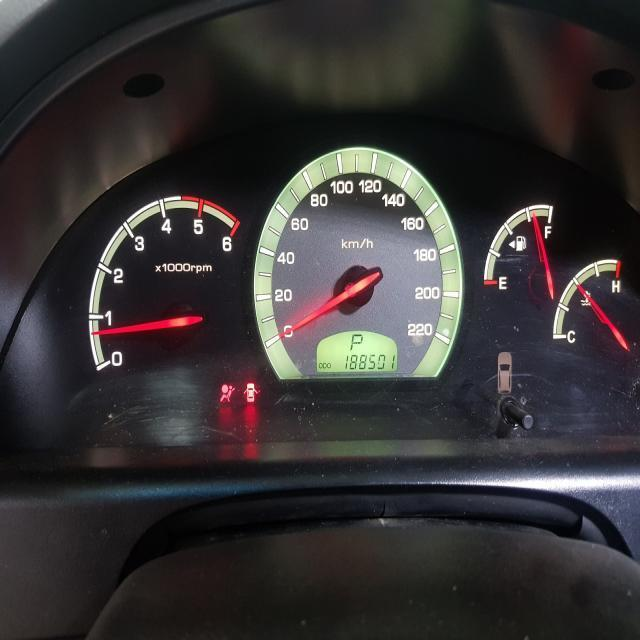Doors: (243, 382, 257, 402)
